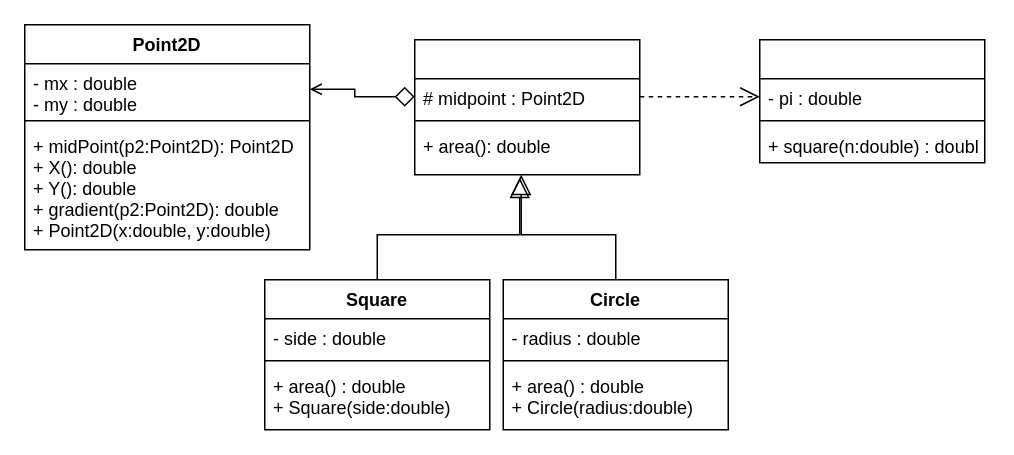
Image size: 1014x455. Some labels were removed from this diagram. Each missing label, with the box of its shape:
Math: (758, 38, 985, 163)
Shape: (413, 38, 640, 175)
